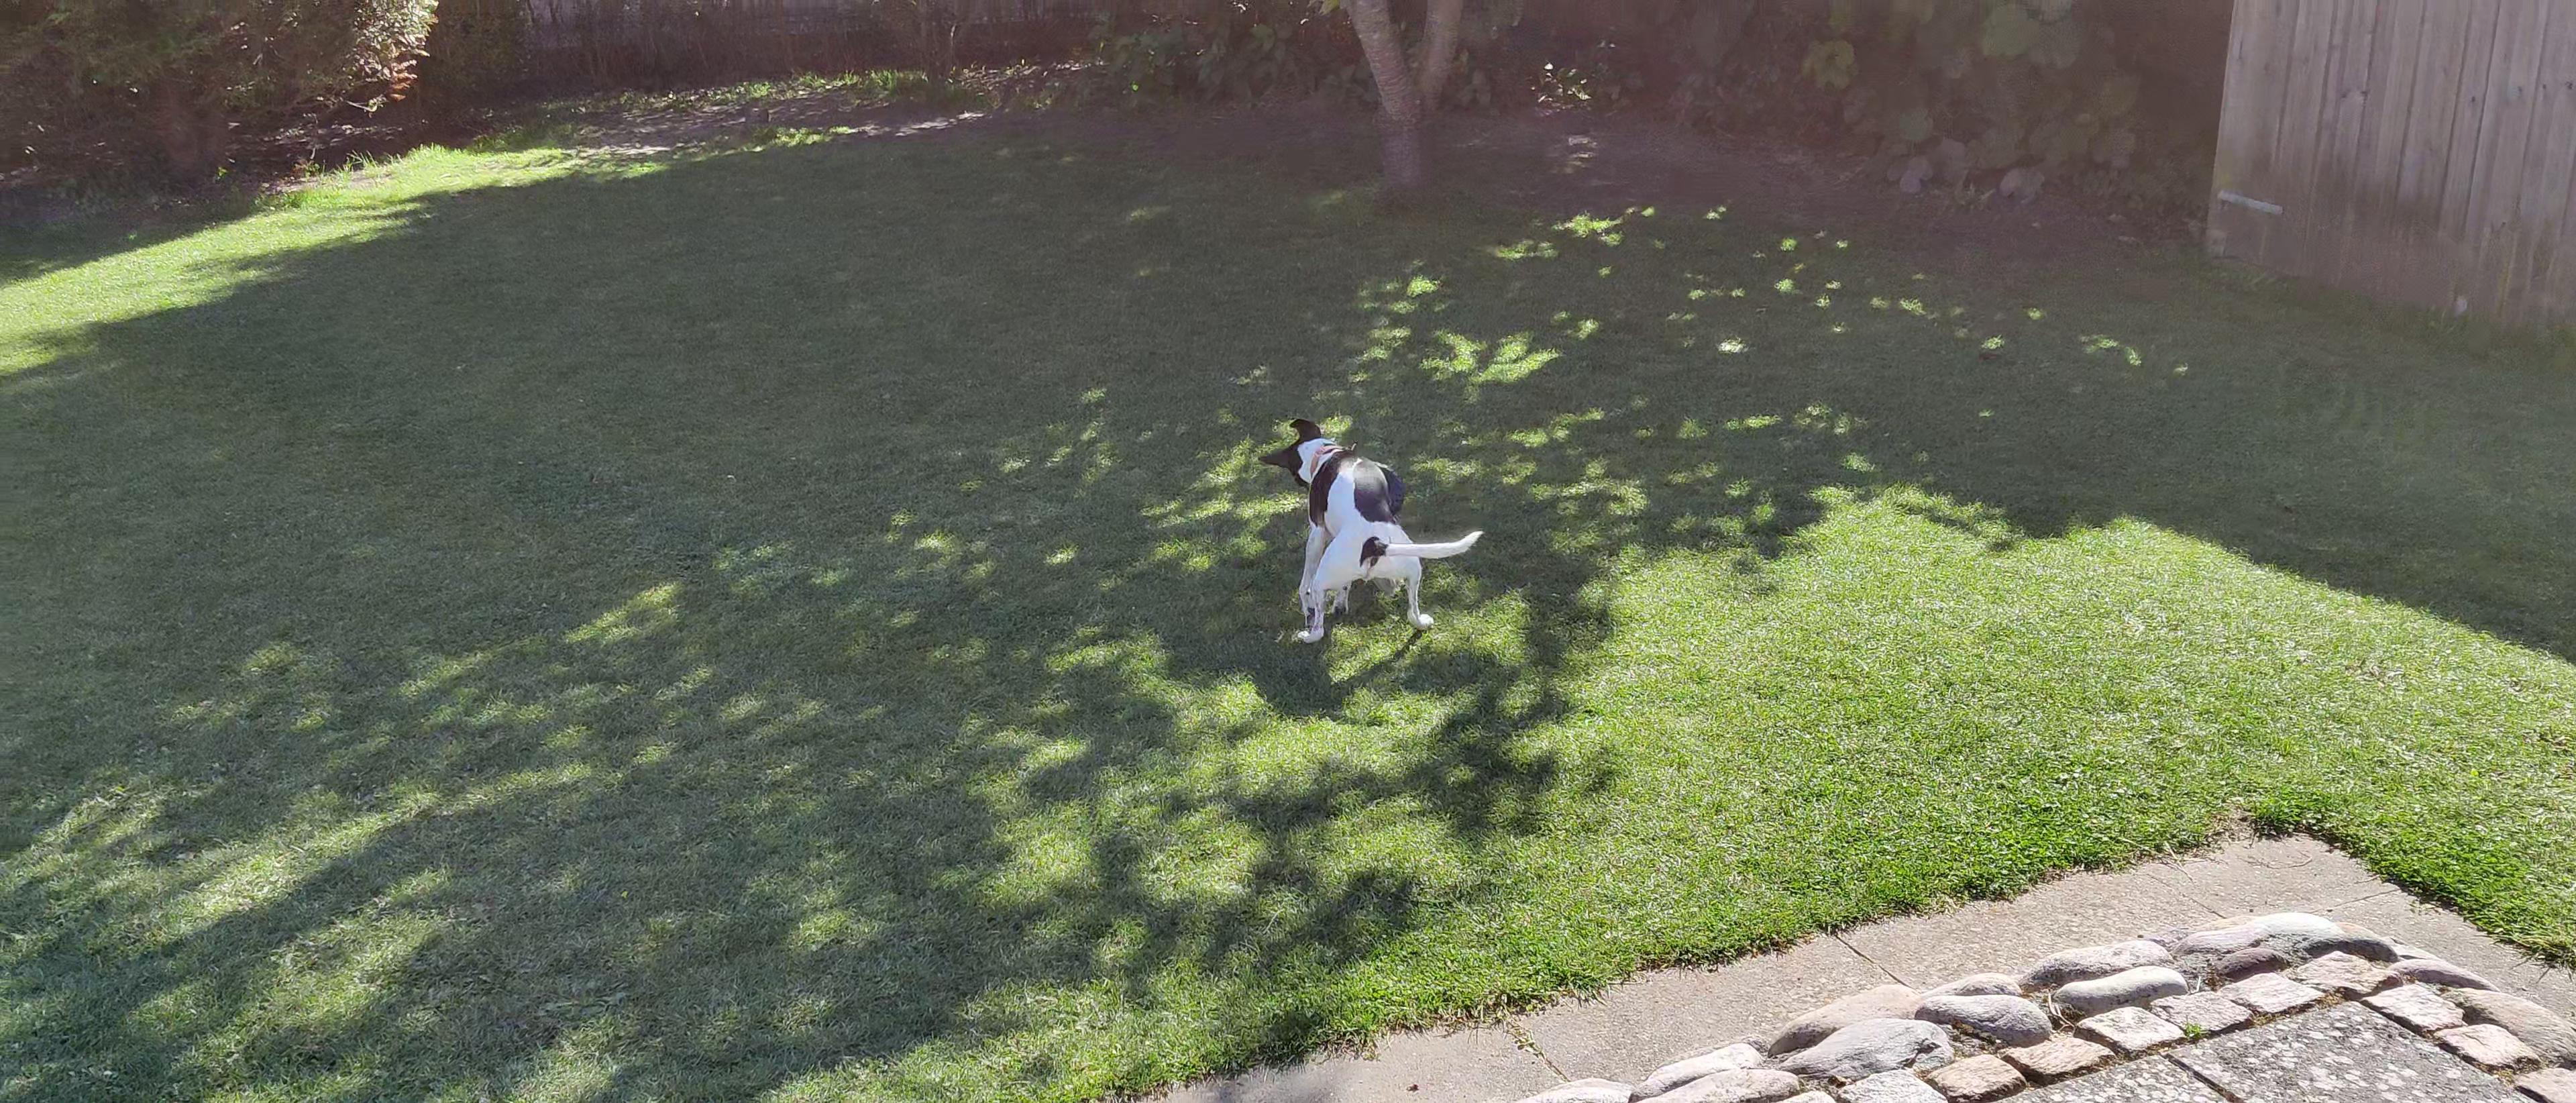Dog: (1255, 413, 1492, 646)
